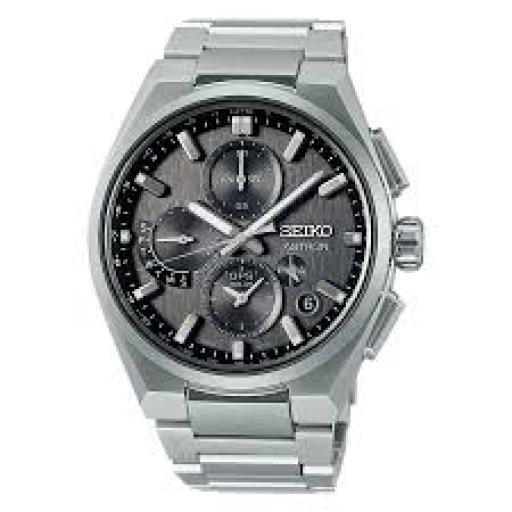KolSaati: (96, 7, 435, 512)
